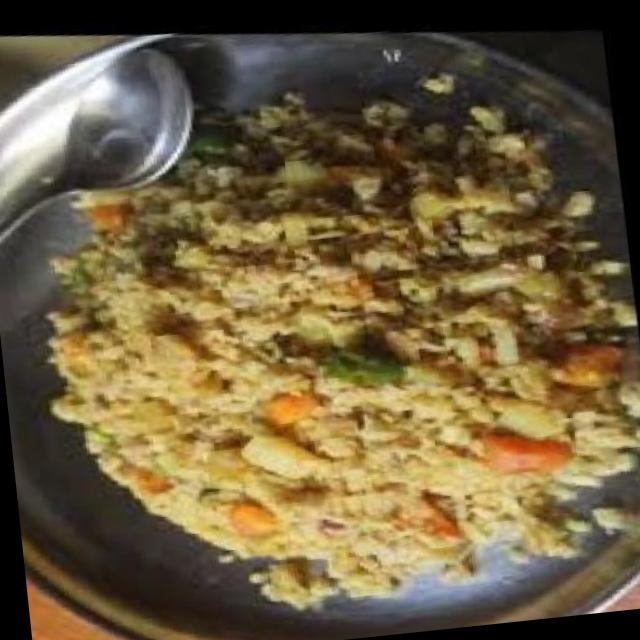poha: (14, 29, 640, 640)
